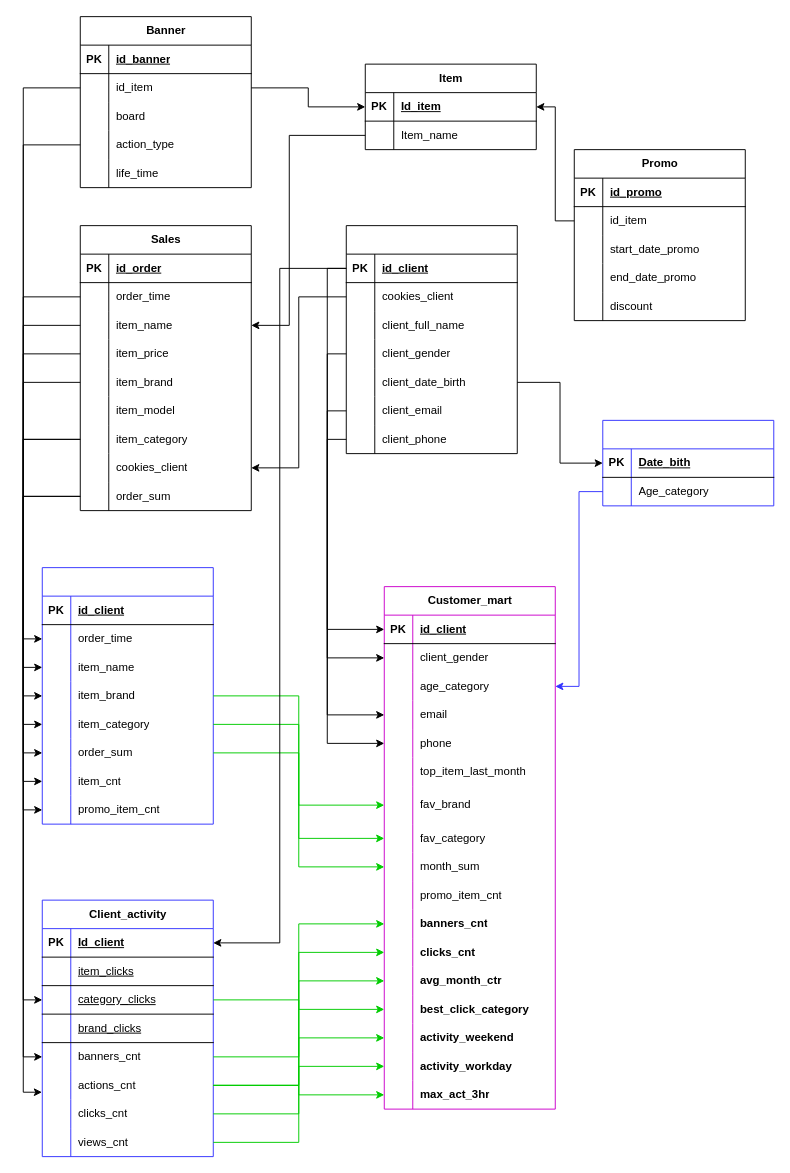
The diagram is 790 pixels wide and 1173 high, and some of its shapes have lost their labels. The shapes that lost their labels are listed below. From the top down, each one's box as (x1, y1, x2, y2) in pixels, then its label:
(345, 225, 517, 454): Client_accounts
(602, 419, 774, 506): Category_of_age
(41, 567, 213, 824): Client_sales
